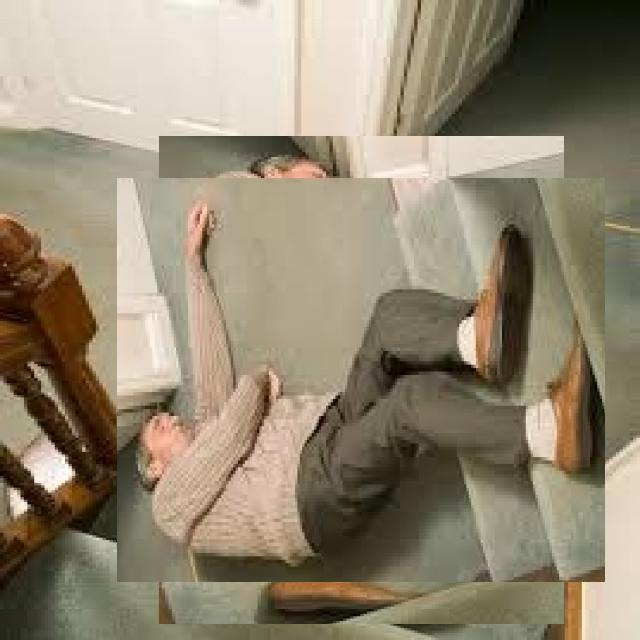Fall: (123, 188, 609, 570)
